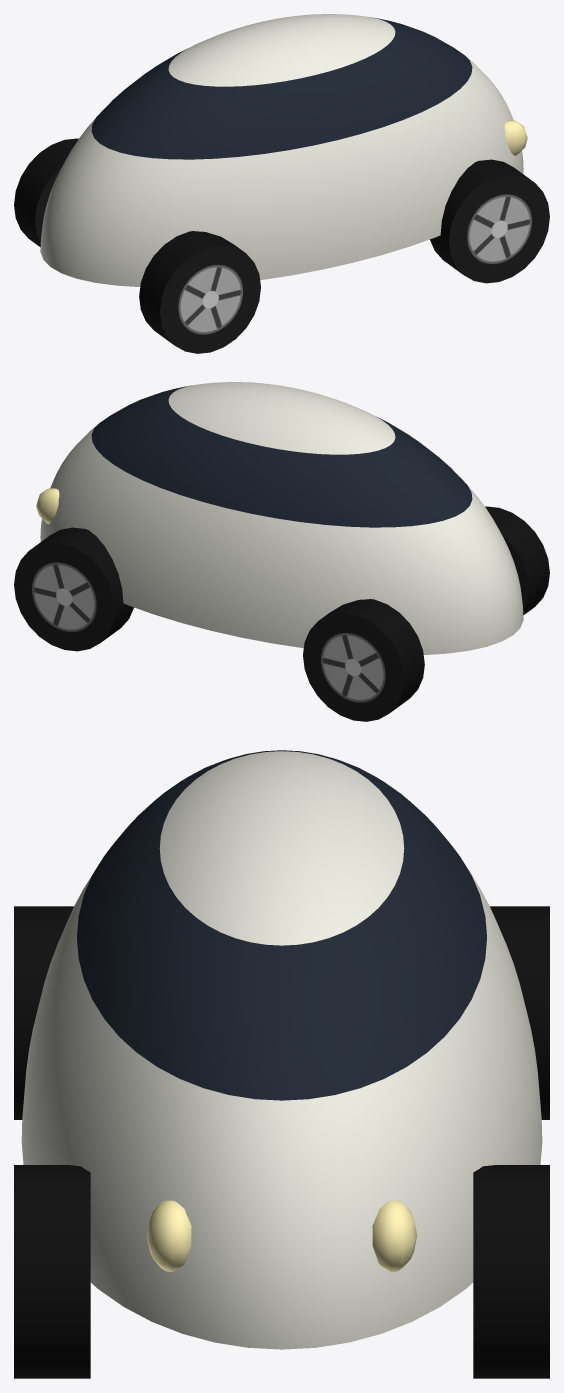
The model's file is coccinelle.obj.
3 views of the same model, one above another, from view 1: azimuth 30°, elevation 25°; view 2: azimuth 150°, elevation 25°; view 3: azimuth 270°, elevation 25° (orthographic). The views are drawn at different scales.
Visible parts, largest first — view 1: carrosserie, vitres, roue_ar_d_jante, roue_av_d_jante, roue_ar_d, roue_ar_g, roue_av_d, phares, roue_ar_g_jante; view 2: carrosserie, vitres, roue_ar_g_jante, roue_av_g_jante, roue_ar_g, roue_ar_d, roue_av_g, phares, roue_ar_d_jante; view 3: carrosserie, vitres, roue_av_g, roue_av_d, roue_ar_g, roue_ar_d, phares.
Part boxes in pixels (x1=…): carrosserie: x1=40, y1=14, x2=523, y2=286; vitres: x1=91, y1=17, x2=472, y2=159; roue_ar_d_jante: x1=160, y1=245, x2=260, y2=353; roue_av_d_jante: x1=449, y1=175, x2=549, y2=283; roue_ar_d: x1=139, y1=231, x2=244, y2=345; roue_ar_g: x1=14, y1=138, x2=78, y2=247; roue_av_d: x1=430, y1=159, x2=533, y2=274; phares: x1=504, y1=120, x2=527, y2=156; roue_ar_g_jante: x1=35, y1=167, x2=61, y2=242; carrosserie: x1=40, y1=382, x2=523, y2=654; vitres: x1=91, y1=385, x2=472, y2=527; roue_ar_g_jante: x1=303, y1=613, x2=403, y2=721; roue_av_g_jante: x1=14, y1=543, x2=114, y2=651; roue_ar_g: x1=319, y1=599, x2=424, y2=713; roue_ar_d: x1=485, y1=506, x2=549, y2=615; roue_av_g: x1=30, y1=527, x2=133, y2=642; phares: x1=36, y1=488, x2=59, y2=524; roue_ar_d_jante: x1=502, y1=535, x2=528, y2=610; carrosserie: x1=21, y1=751, x2=542, y2=1349; vitres: x1=77, y1=750, x2=486, y2=1100; roue_av_g: x1=473, y1=1165, x2=549, y2=1378; roue_av_d: x1=14, y1=1165, x2=90, y2=1378; roue_ar_g: x1=490, y1=906, x2=549, y2=1119; roue_ar_d: x1=14, y1=906, x2=73, y2=1119; phares: x1=146, y1=1200, x2=417, y2=1272.
Bounding box in the file's own units: 0.32 × 0.155 × 0.175.
5 materials, 1 textured.
